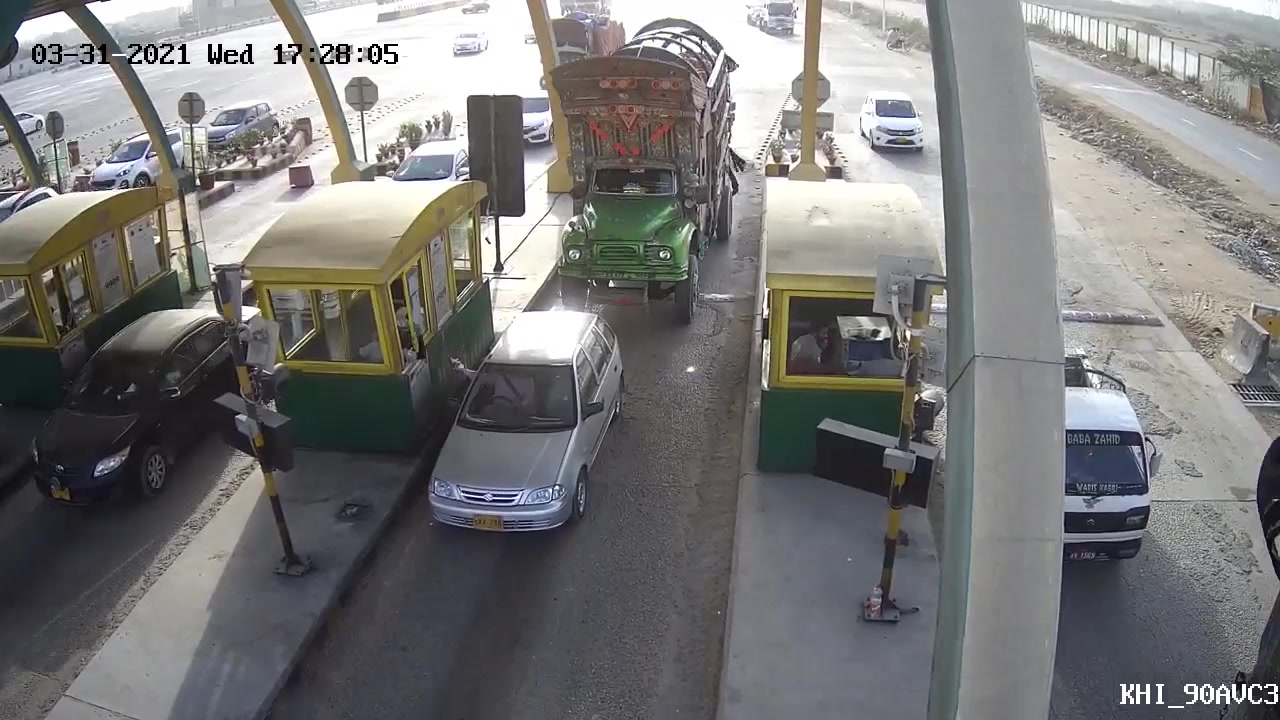F1: (424, 305, 627, 556)
F5: (540, 22, 749, 327)
